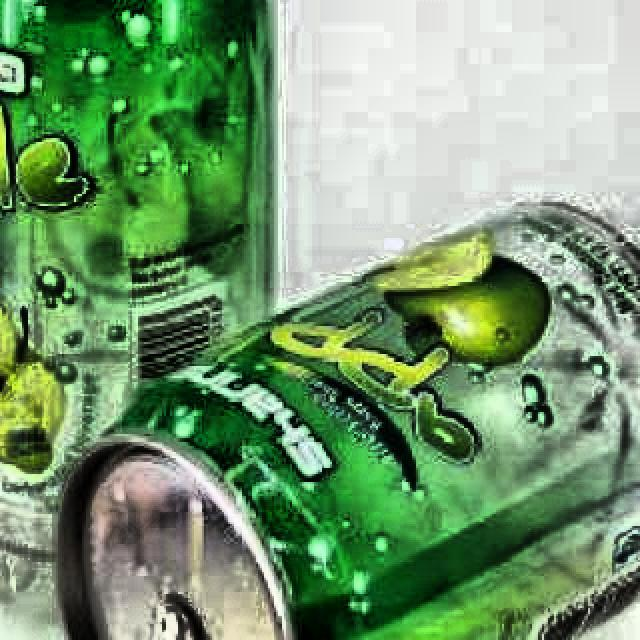metal: (52, 180, 640, 640), (0, 0, 294, 582)
